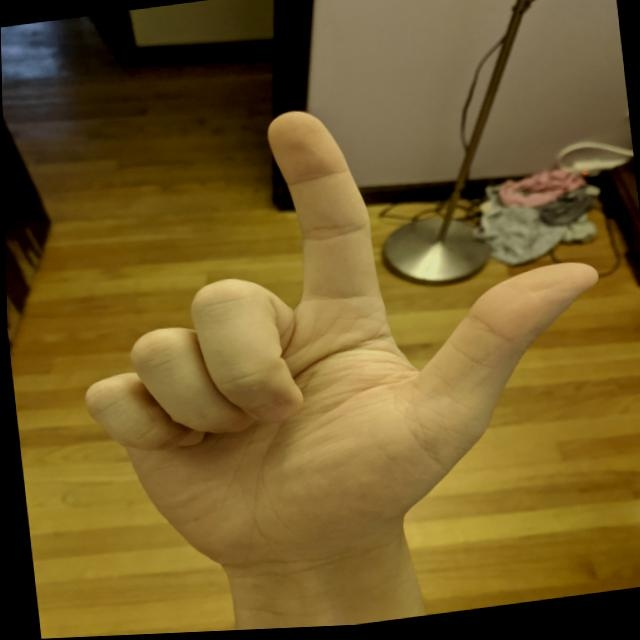L: (44, 71, 631, 594)
